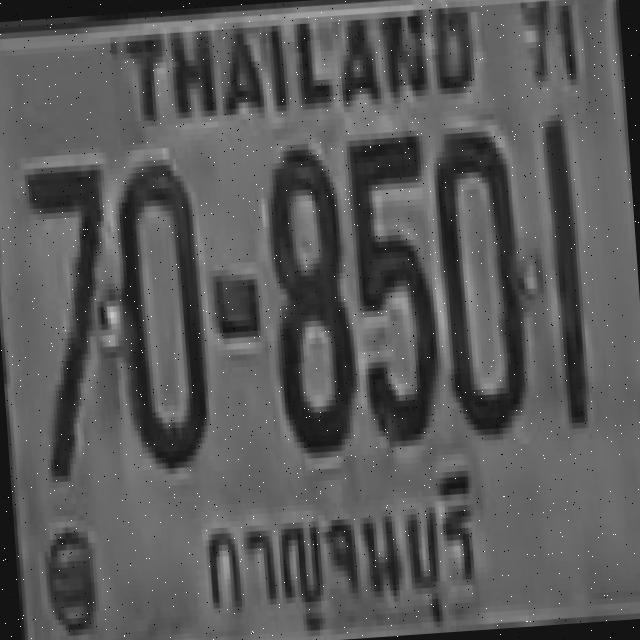0: (109, 152, 209, 464), (429, 124, 529, 432)
1: (538, 114, 588, 424)
5: (346, 130, 440, 443)
7: (21, 158, 120, 477)
8: (260, 141, 357, 449)
Kanchanaburi: (187, 473, 491, 640)
